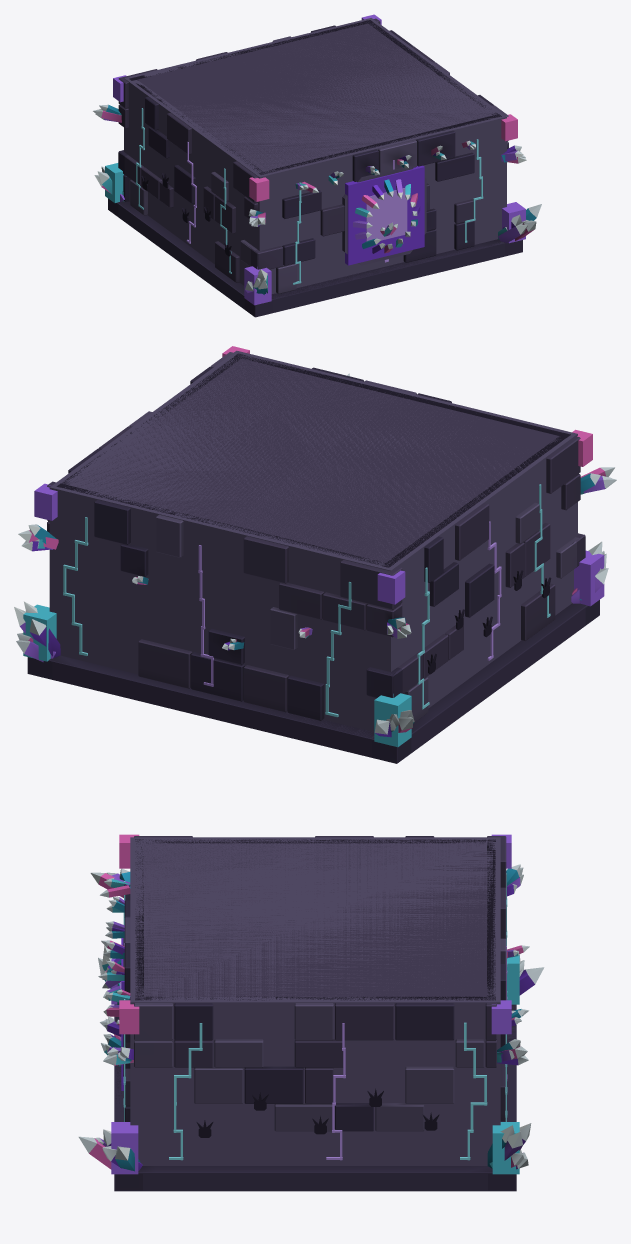
The model's file is CrystalDinoFloor.fbx.
The picture shows the model from 3 angles, top to bottom: view 1: azimuth 30°, elevation 25°; view 2: azimuth 150°, elevation 25°; view 3: azimuth 270°, elevation 25°; orthographic projection. The views are drawn at different scales.
Parts seen in each view (by area): view 1: CD_S_All, CD_F_Quiet, CD_F_Rings, CD_F_Smooth, CD_F_Props, CD_F_Glass; view 2: CD_S_All, CD_F_Rings, CD_F_Quiet, CD_F_Smooth, CD_F_Props, CD_F_Glass; view 3: CD_S_All, CD_F_Rings, CD_F_Smooth, CD_F_Quiet, CD_F_Props, CD_F_Glass.
Boxes of the visible parts, x1,y1,x2,y2 form: CD_S_All: (105,14,525,317); CD_F_Quiet: (108,25,522,316); CD_F_Rings: (118,18,508,293); CD_F_Smooth: (118,20,508,299); CD_F_Props: (93,104,541,294); CD_F_Glass: (135,108,483,284); CD_S_All: (23,346,604,763); CD_F_Rings: (47,352,585,722); CD_F_Quiet: (28,367,599,762); CD_F_Smooth: (47,353,586,739); CD_F_Props: (14,467,616,737); CD_F_Glass: (63,484,550,717); CD_S_All: (111,834,519,1191); CD_F_Rings: (125,836,506,1130); CD_F_Smooth: (98,836,529,1137); CD_F_Quiet: (115,836,515,1190); CD_F_Props: (78,864,544,1171); CD_F_Glass: (105,873,507,1160).
Size of the model in its own units: 60 by 20 by 60.
